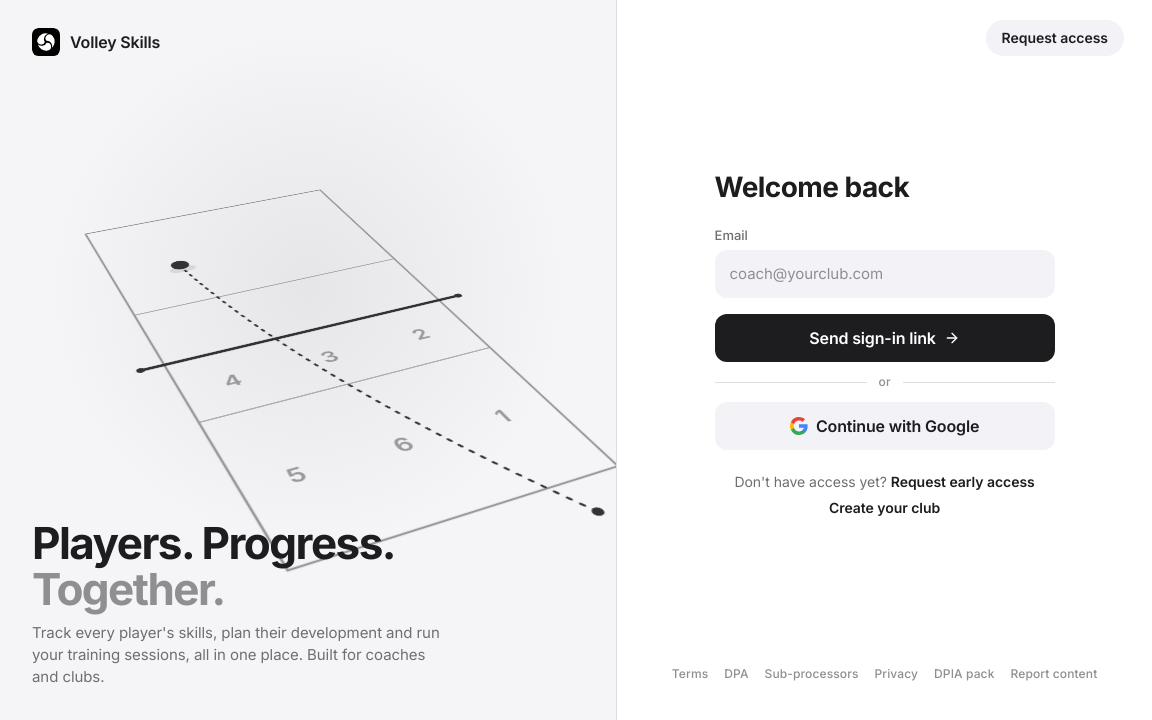
Test: LoginPage › shows an error message when sending the link fails
In the field labelled "Email": [885, 274] box [715,250,1055,298], type "coach@example.com"
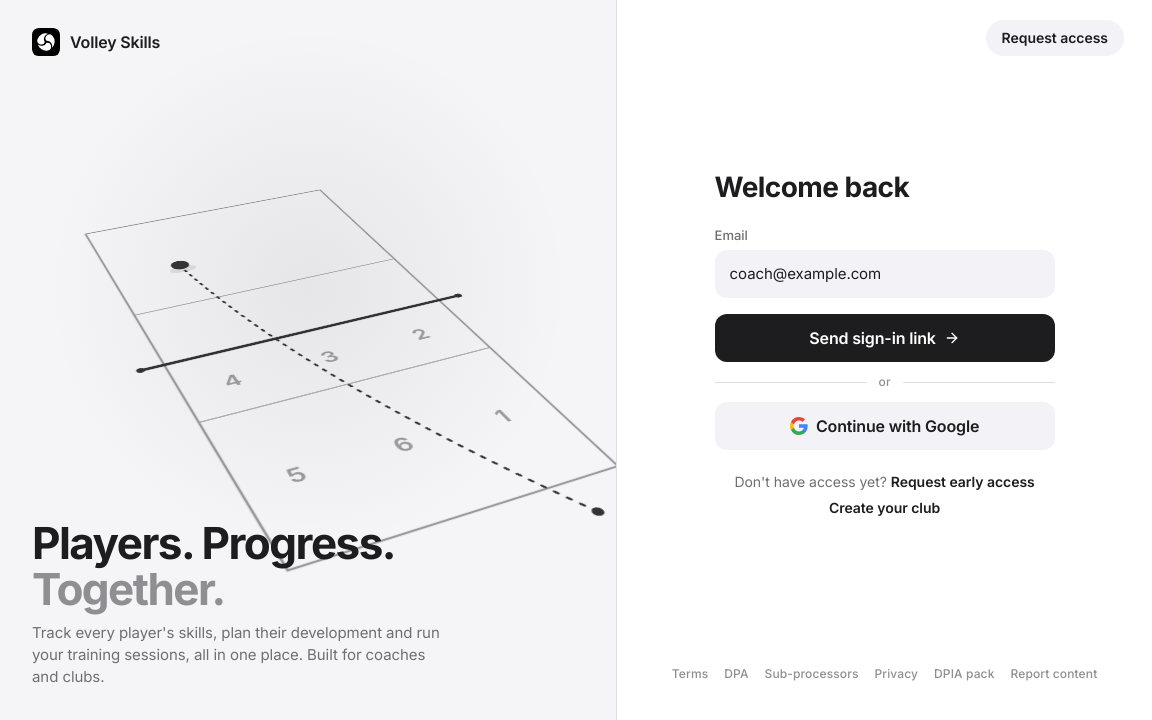
Click the button "Send sign-in link": [885, 338] box [715,314,1055,362]
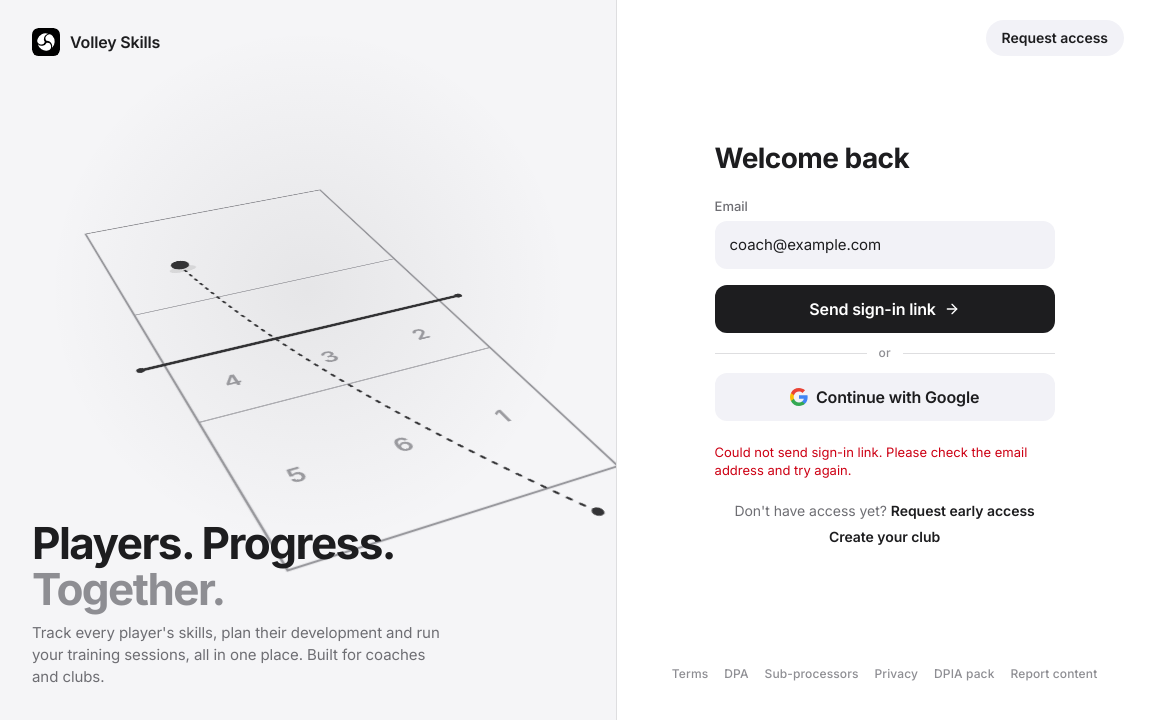
Expected: the message "Could not send sign-in link. Please check the email address and try again." is shown, [715,443,1055,479]
